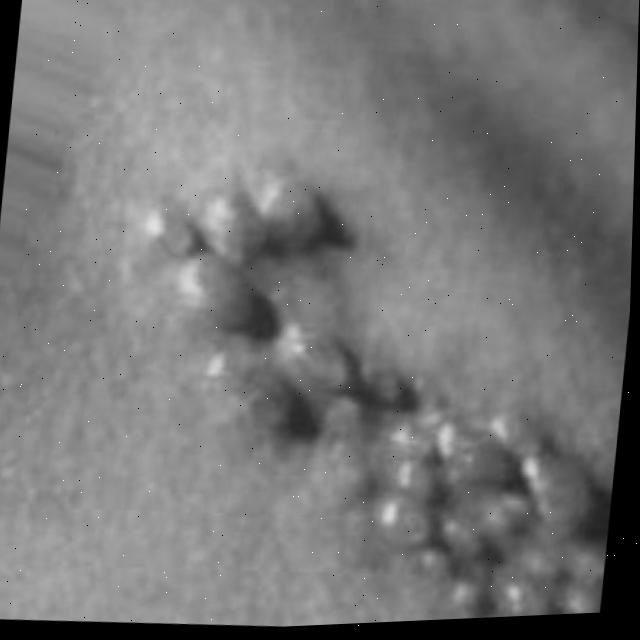Shingles: (95, 147, 635, 635)
